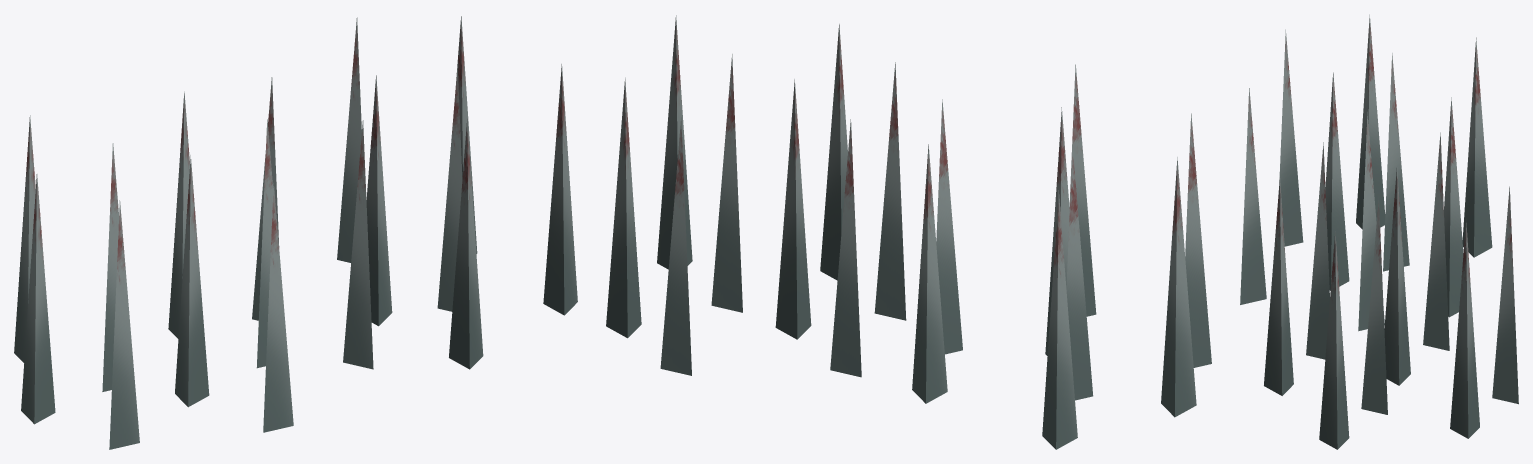
File: spikes.obj
The picture shows the model from 3 angles, left to right: view 1: azimuth 30°, elevation 25°; view 2: azimuth 150°, elevation 25°; view 3: azimuth 270°, elevation 25°; orthographic projection. The views are drawn at different scales.
Visible parts, largest first — view 1: Cone.011_Cone.029, Cone.005_Cone.023, Cone.003_Cone.021, Cone.013_Cone.031, Cone.012_Cone.030, Cone.002_Cone.020, Cone.004_Cone.022, Cone.009_Cone.027, Cone.010_Cone.028, Cone.015_Cone.033, Cone.007_Cone.025, Cone (+4 smaller); view 2: Cone.007_Cone.025, Cone.014_Cone.032, Cone, Cone.003_Cone.021, Cone.009_Cone.027, Cone.015_Cone.033, Cone.010_Cone.028, Cone.008_Cone.026, Cone.012_Cone.030, Cone.013_Cone.031, Cone.001_Cone.019, Cone.002_Cone.020 (+4 smaller); view 3: Cone.014_Cone.032, Cone.011_Cone.029, Cone.013_Cone.031, Cone.007_Cone.025, Cone.009_Cone.027, Cone.004_Cone.022, Cone.015_Cone.033, Cone.010_Cone.028, Cone.008_Cone.026, Cone.012_Cone.030, Cone.002_Cone.020, Cone.005_Cone.023 (+4 smaller).
Boxes of the visible parts, box(x1,y1,x2,y2) form: Cone.011_Cone.029: box(543, 64, 577, 315); Cone.005_Cone.023: box(175, 155, 209, 407); Cone.003_Cone.021: box(21, 174, 55, 424); Cone.013_Cone.031: box(449, 119, 483, 369); Cone.012_Cone.030: box(343, 120, 373, 369); Cone.002_Cone.020: box(109, 200, 139, 449); Cone.004_Cone.022: box(263, 183, 293, 432); Cone.009_Cone.027: box(366, 75, 392, 326); Cone.010_Cone.028: box(437, 66, 462, 311); Cone.015_Cone.033: box(337, 17, 361, 262); Cone.007_Cone.025: box(14, 115, 35, 362); Cone: box(168, 91, 189, 338); Cone.007_Cone.025: box(1042, 190, 1077, 449); Cone.014_Cone.032: box(606, 77, 641, 338); Cone: box(912, 144, 947, 403); Cone.003_Cone.021: box(1161, 157, 1196, 417); Cone.009_Cone.027: box(775, 79, 811, 339); Cone.015_Cone.033: box(660, 117, 691, 375); Cone.010_Cone.028: box(711, 54, 742, 312); Cone.008_Cone.026: box(830, 119, 861, 377); Cone.012_Cone.030: box(874, 62, 906, 320); Cone.013_Cone.031: box(820, 24, 847, 280); Cone.001_Cone.019: box(936, 99, 962, 354); Cone.002_Cone.020: box(1185, 113, 1211, 367); Cone.014_Cone.032: box(1450, 219, 1479, 438); Cone.011_Cone.029: box(1319, 231, 1349, 449); Cone.013_Cone.031: box(1264, 177, 1293, 395); Cone.007_Cone.025: box(1462, 37, 1492, 257); Cone.009_Cone.027: box(1384, 167, 1410, 385); Cone.004_Cone.022: box(1240, 88, 1266, 304); Cone.015_Cone.033: box(1492, 186, 1518, 404); Cone.010_Cone.028: box(1361, 196, 1387, 414); Cone.008_Cone.026: box(1423, 132, 1449, 350); Cone.012_Cone.030: box(1306, 142, 1329, 359); Cone.002_Cone.020: box(1279, 29, 1303, 246); Cone.005_Cone.023: box(1325, 72, 1349, 290).
Size of the model in its own units: 6.43 by 2.82 by 3.34.
